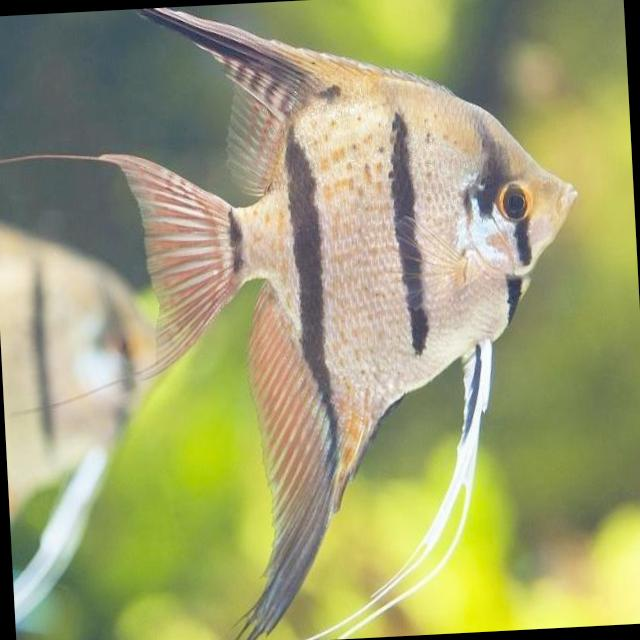AngelFish: (91, 0, 599, 626)
